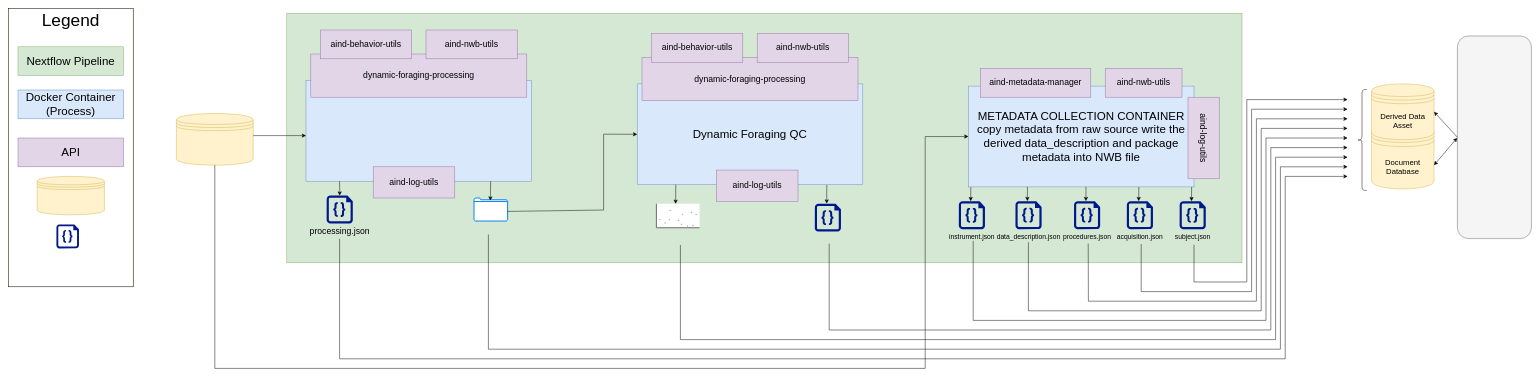
This 1540x381 diagram has some shape labels left out. Each missing label, with the box of its shape:
aind-data-schema JSON: (56, 224, 79, 248)
Data/DB: (37, 176, 104, 215)
Dynamic Foraging NWB Packaging: (306, 80, 532, 181)
NWBFile: (473, 197, 508, 221)
Plots: (656, 204, 699, 228)
QC Portal: (1457, 36, 1531, 239)
quality_control.json: (815, 204, 841, 231)
Raw Data Asset: (176, 113, 253, 165)
